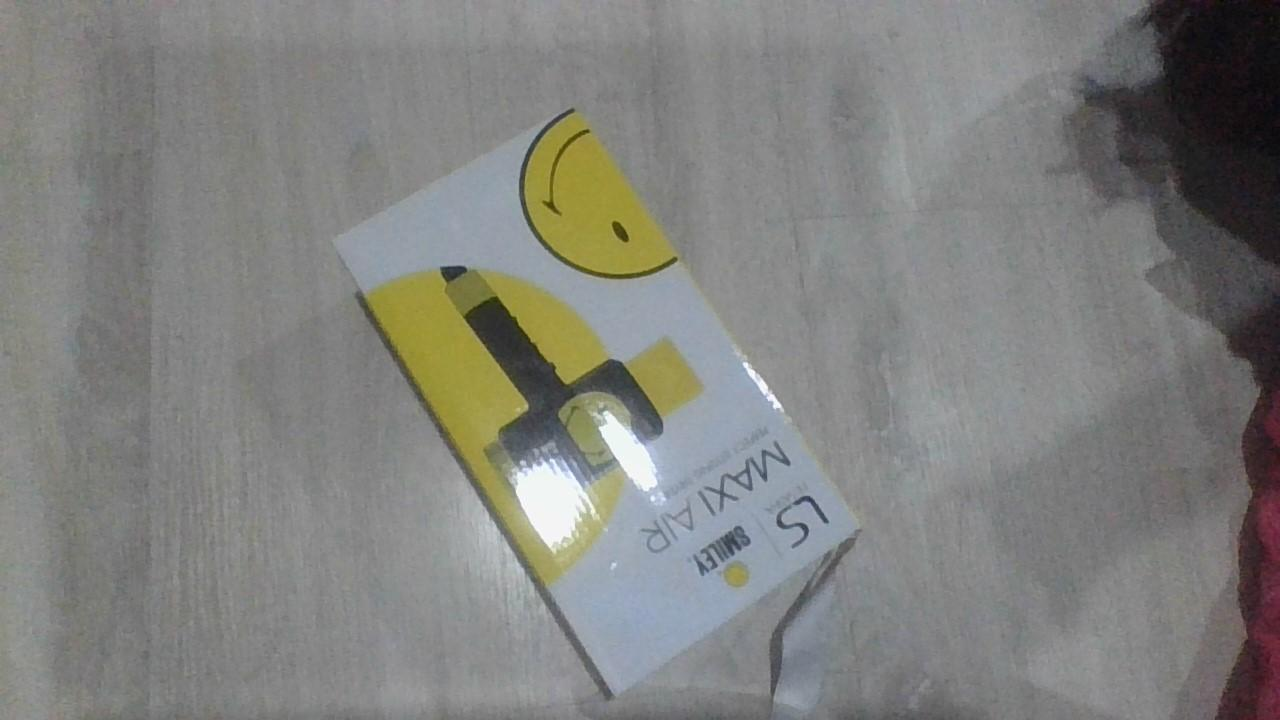Dryer: (329, 103, 864, 701)
